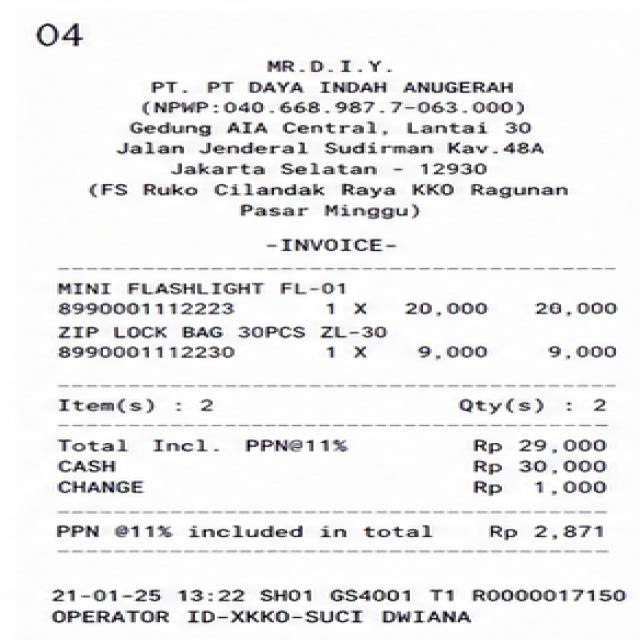date: (48, 584, 257, 608)
store: (255, 56, 397, 78)
total: (49, 434, 624, 456)
